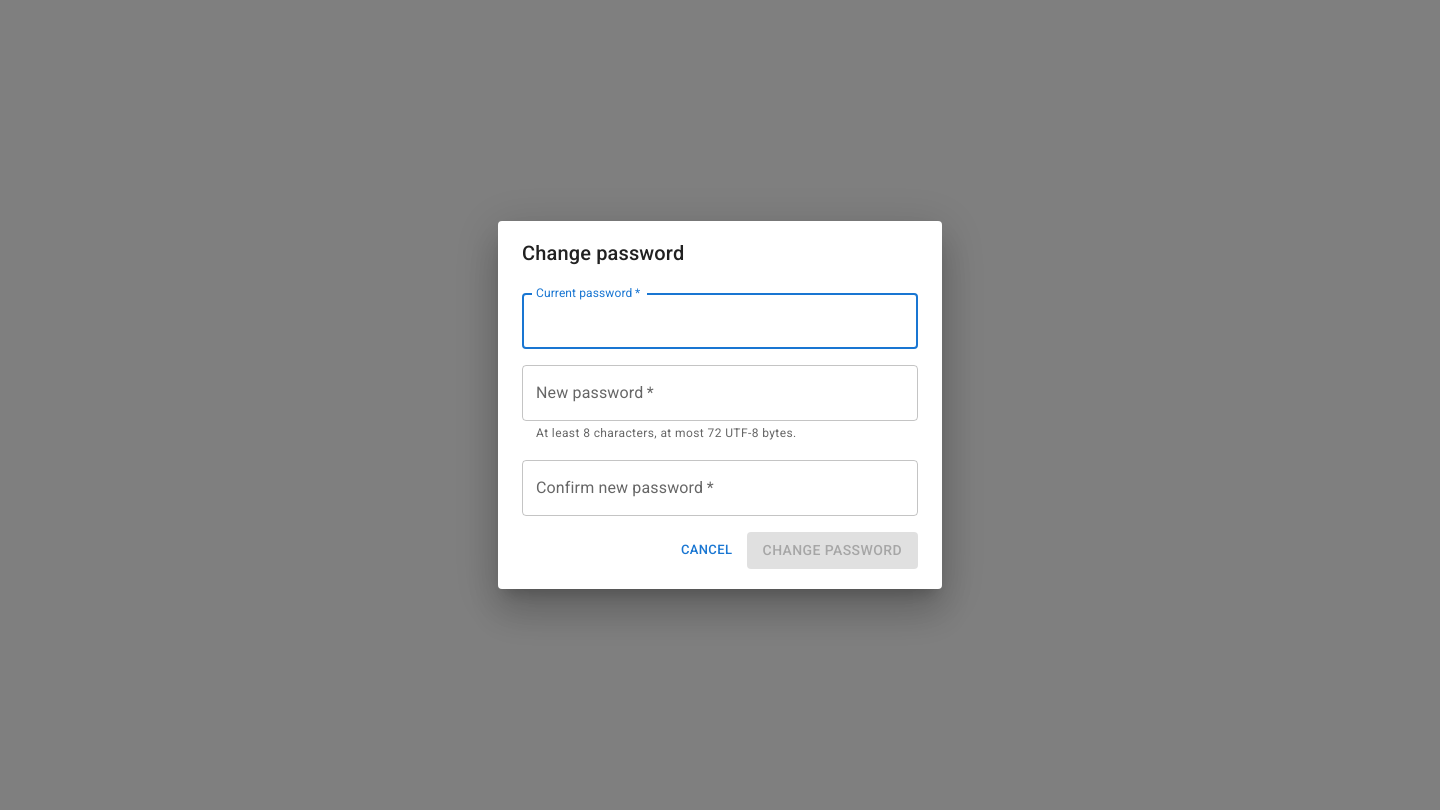
Scenario: ChangePasswordDialog › renders change error 401
The image size is (1440, 810).
Type "old-password" into the password field labelled "Current password *" at (720, 321), box [522,293,918,349]
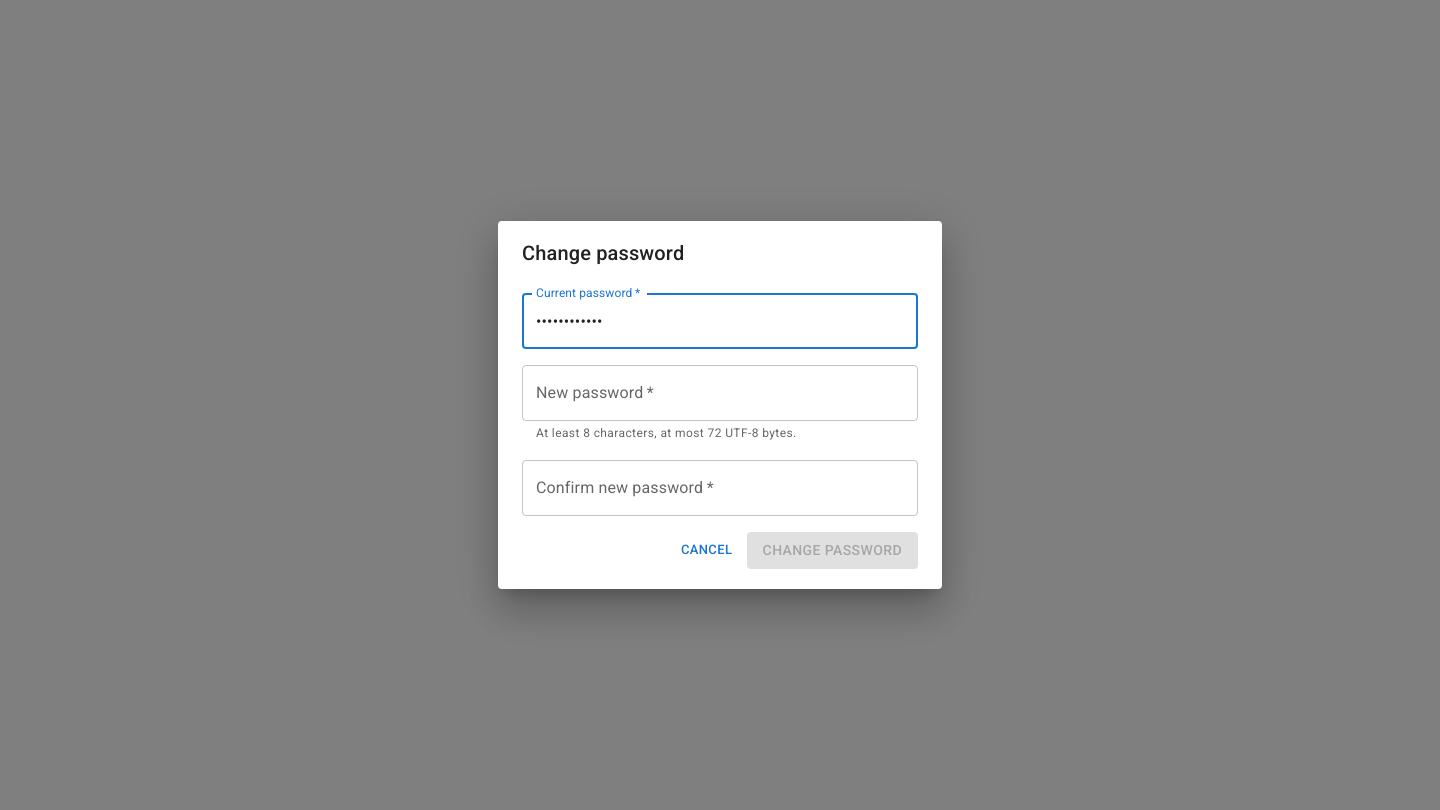
Type "new-password" into the password field labelled "New password *" at (720, 393), box [522,365,918,421]
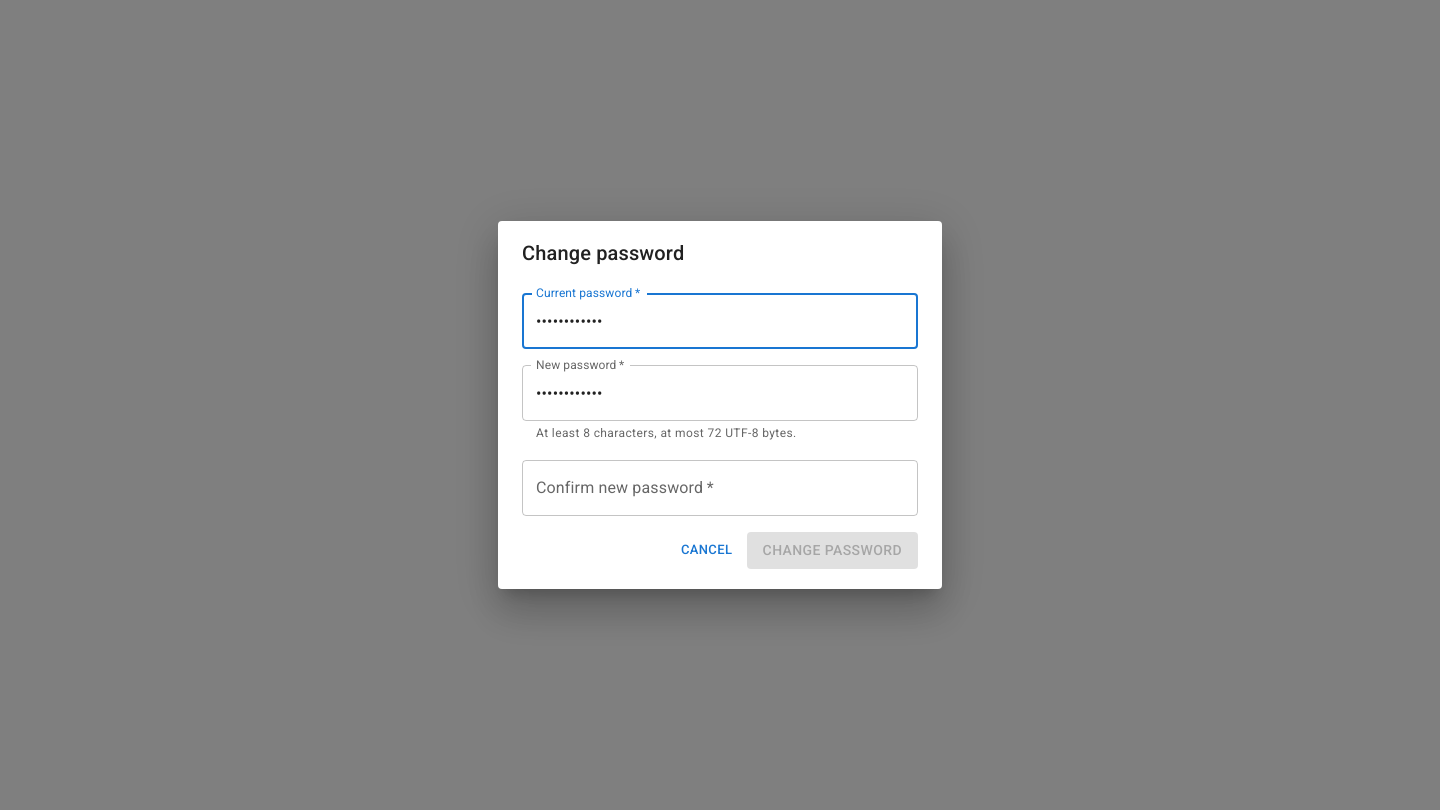
Type "new-password" into the password field labelled "Confirm new password *" at (720, 488), box [522,460,918,516]
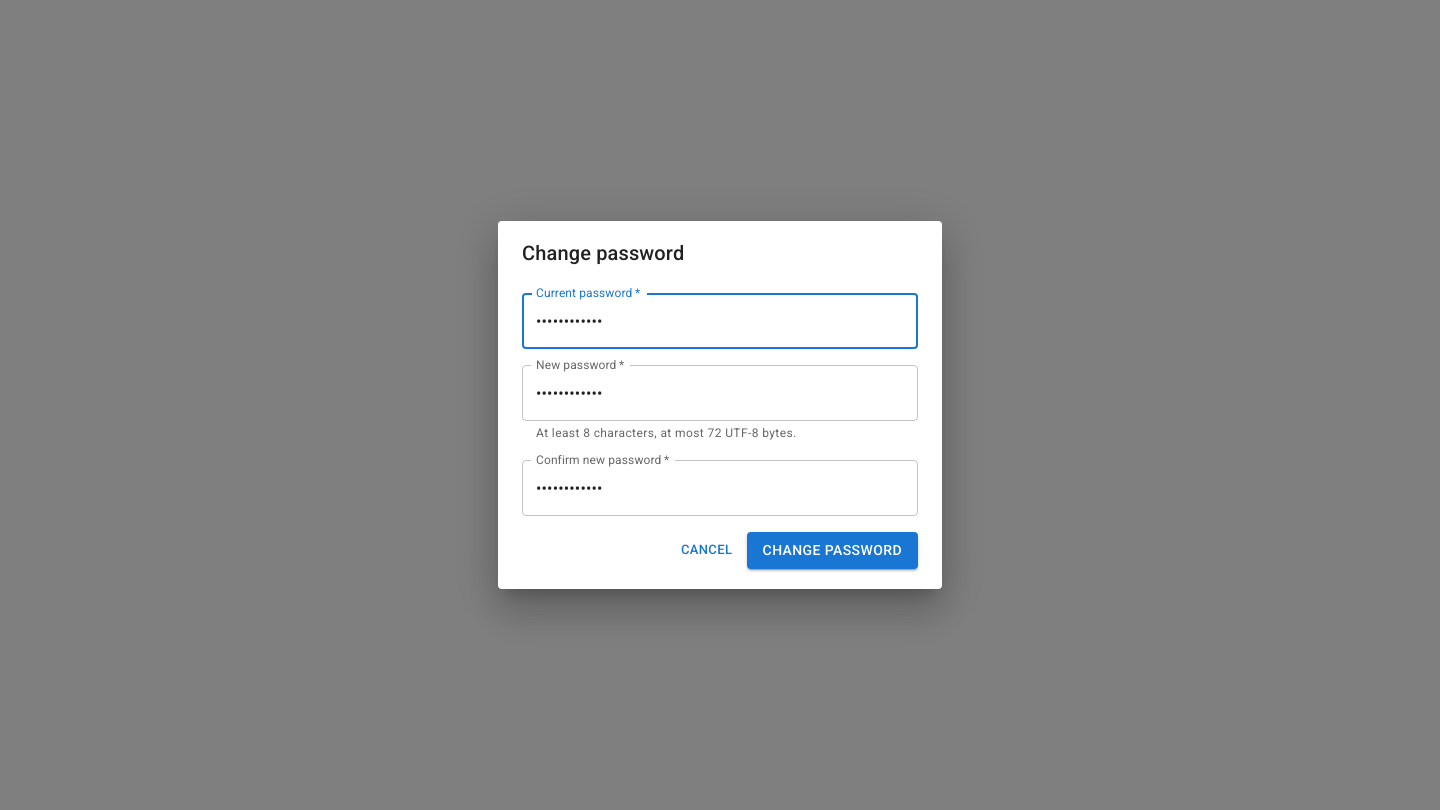
Click the button "Change password" at (832, 550), box [747,532,918,569]
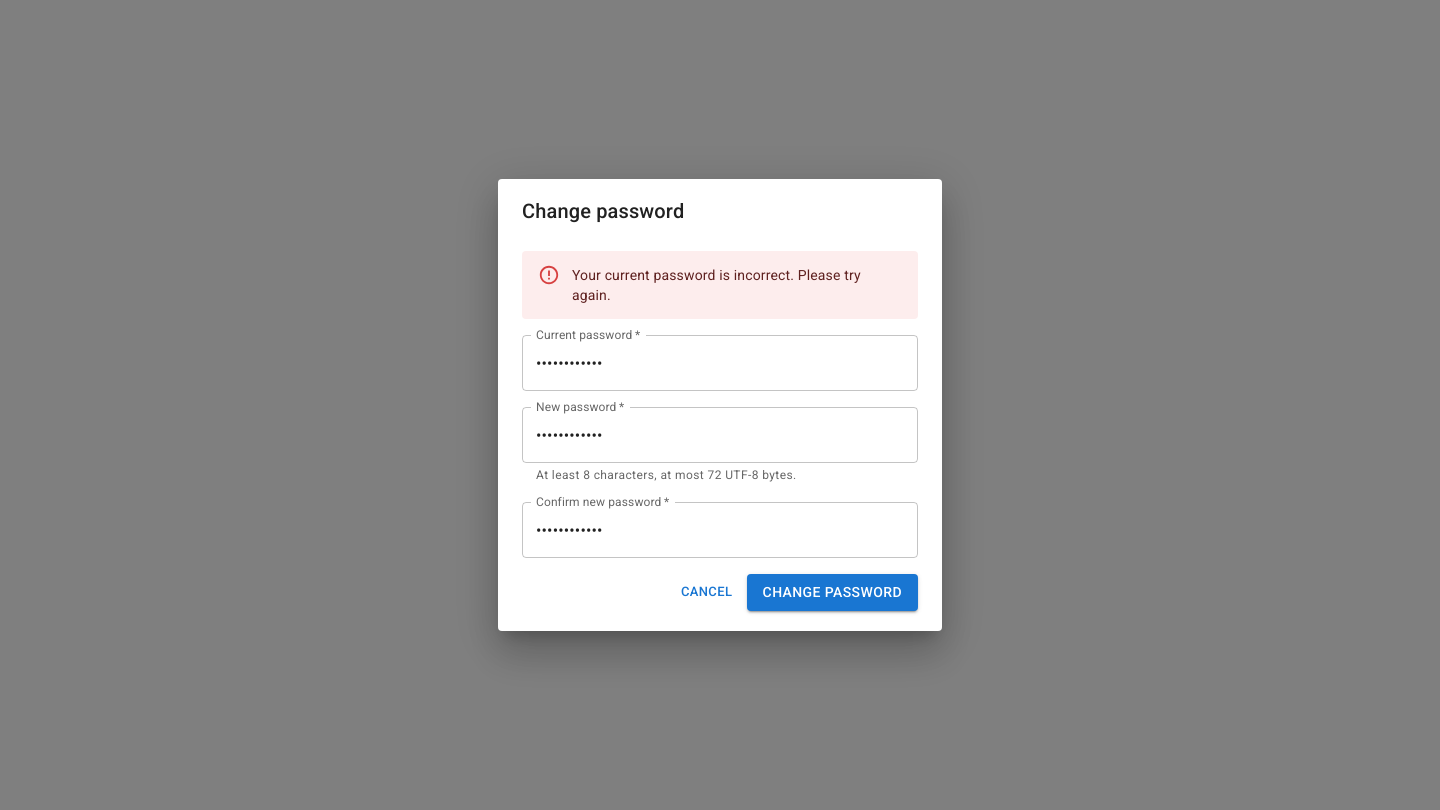
Expected: the message shows "current password is incorrect", [572,267,861,303]
